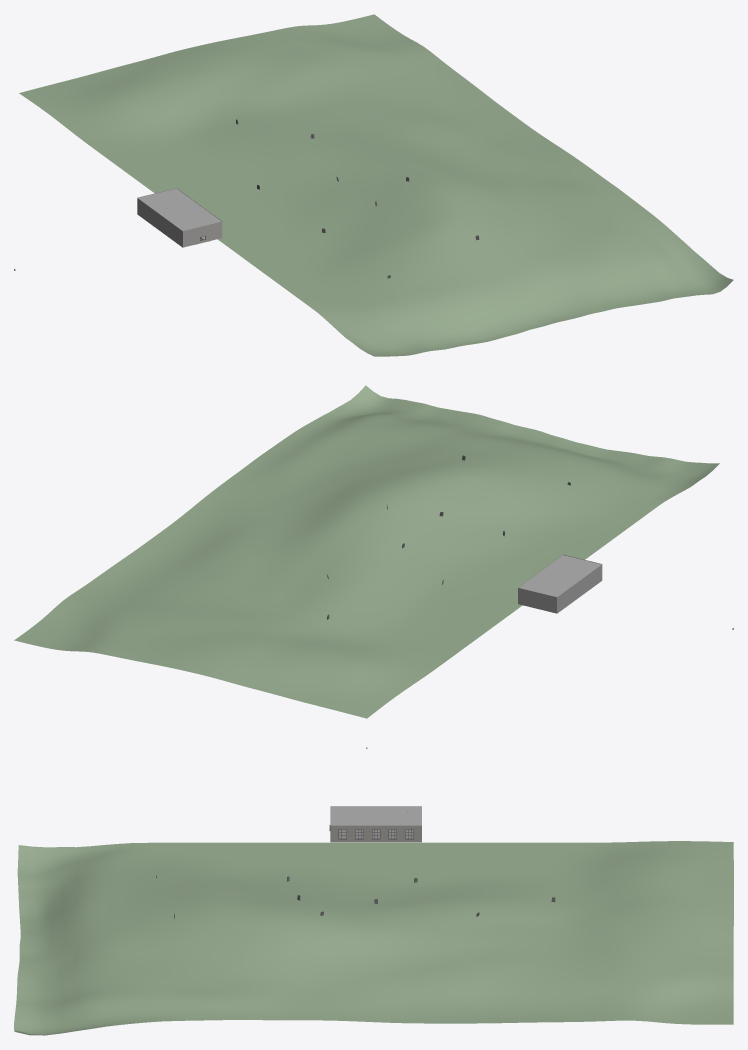
The model's file is World.fbx.
3 renders of one model, top to bottom at view 1: azimuth 30°, elevation 25°; view 2: azimuth 150°, elevation 25°; view 3: azimuth 270°, elevation 25°, orthographic.
Parts seen in each view (by area): view 1: pPlane8; view 2: pPlane8; view 3: pPlane8.
Boxes of the visible parts, box(x1,y1,x2,y2) form: pPlane8: box(14, 14, 733, 356); pPlane8: box(14, 385, 733, 718); pPlane8: box(14, 747, 733, 1035).
Size of the model in its own units: 13809 by 1069 by 15695.
